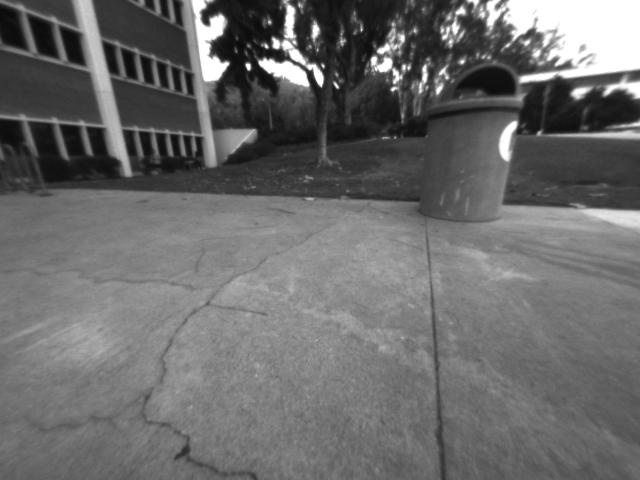trashcan: (412, 54, 524, 231)
